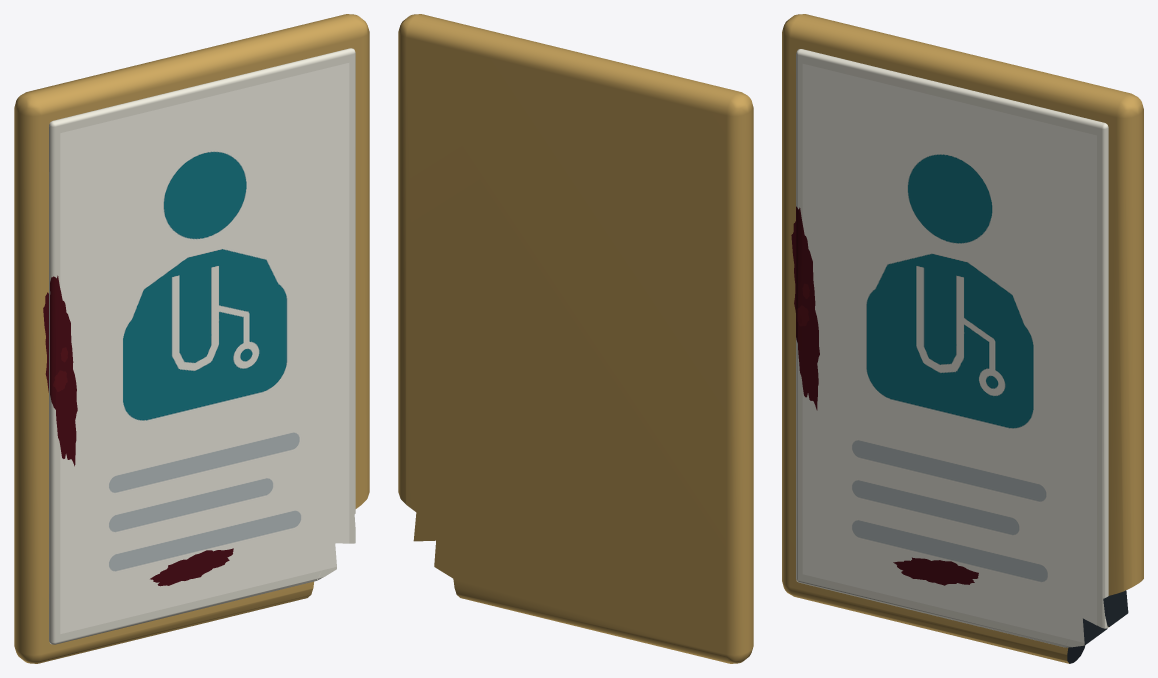
Rendered from reception_poster_clinician.glb.
The picture shows the model from 3 angles, left to right: view 1: azimuth 30°, elevation 25°; view 2: azimuth 150°, elevation 25°; view 3: azimuth 330°, elevation 25°; orthographic projection.
Visible parts, largest first — view 1: reception_poster_clinician_Outbreak_Static; view 2: reception_poster_clinician_Outbreak_Static; view 3: reception_poster_clinician_Outbreak_Static.
Boxes of the visible parts, bbox=[...] form: reception_poster_clinician_Outbreak_Static: bbox=[14, 14, 369, 663]; reception_poster_clinician_Outbreak_Static: bbox=[398, 14, 753, 663]; reception_poster_clinician_Outbreak_Static: bbox=[782, 14, 1143, 663].
Bounding box in the file's own units: 0.59 × 0.92 × 0.0668.
Materials: 5 (1 with a texture image).
